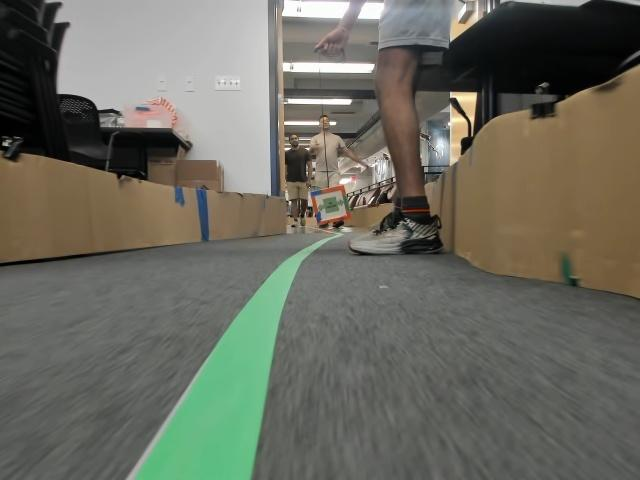Go Around: (317, 201, 341, 214)
